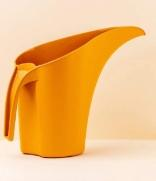ARROSOIR: (1, 2, 155, 163)
